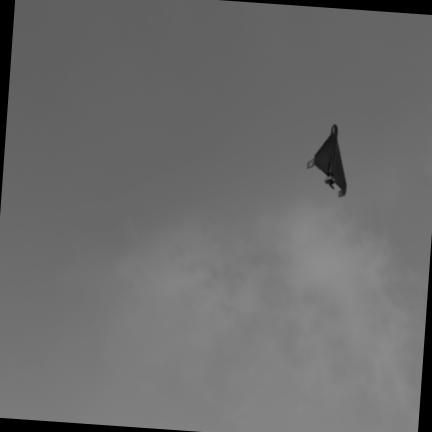Shahed: (307, 124, 346, 196)
